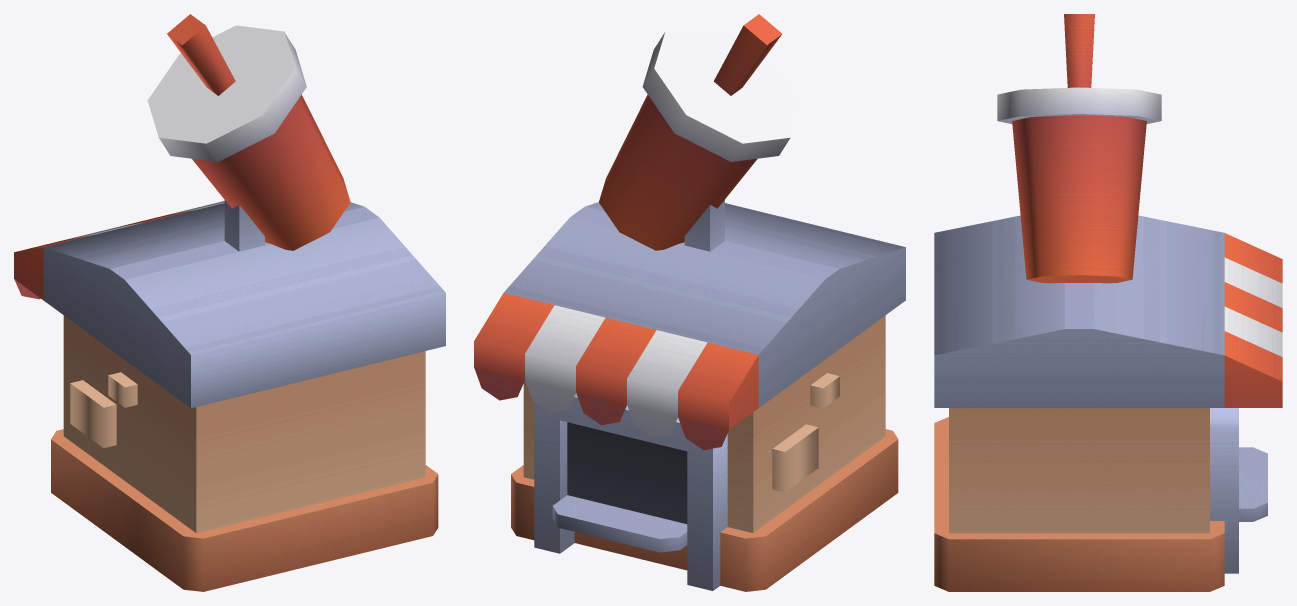
Rendered from stall-drinks.glb.
The picture shows the model from 3 angles, left to right: view 1: azimuth 30°, elevation 25°; view 2: azimuth 150°, elevation 25°; view 3: azimuth 270°, elevation 25°; orthographic projection.
Parts seen in each view (by area): view 1: stall-drinks; view 2: stall-drinks; view 3: stall-drinks.
Boxes of the visible parts, box(x1,y1,x2,y2) form: stall-drinks: box(14, 14, 445, 591); stall-drinks: box(474, 14, 905, 591); stall-drinks: box(934, 14, 1282, 591).
Bounding box in the file's own units: 3 × 5.64 × 3.6.
1 material, 1 textured.
